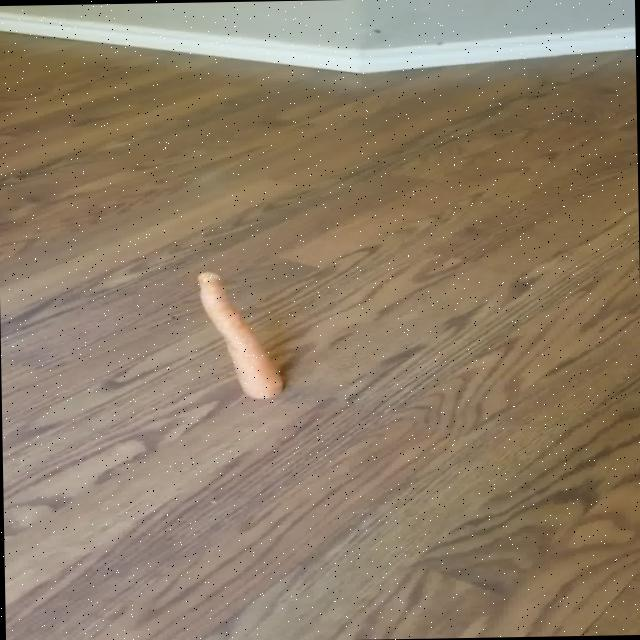carrot: (197, 272, 281, 399)
